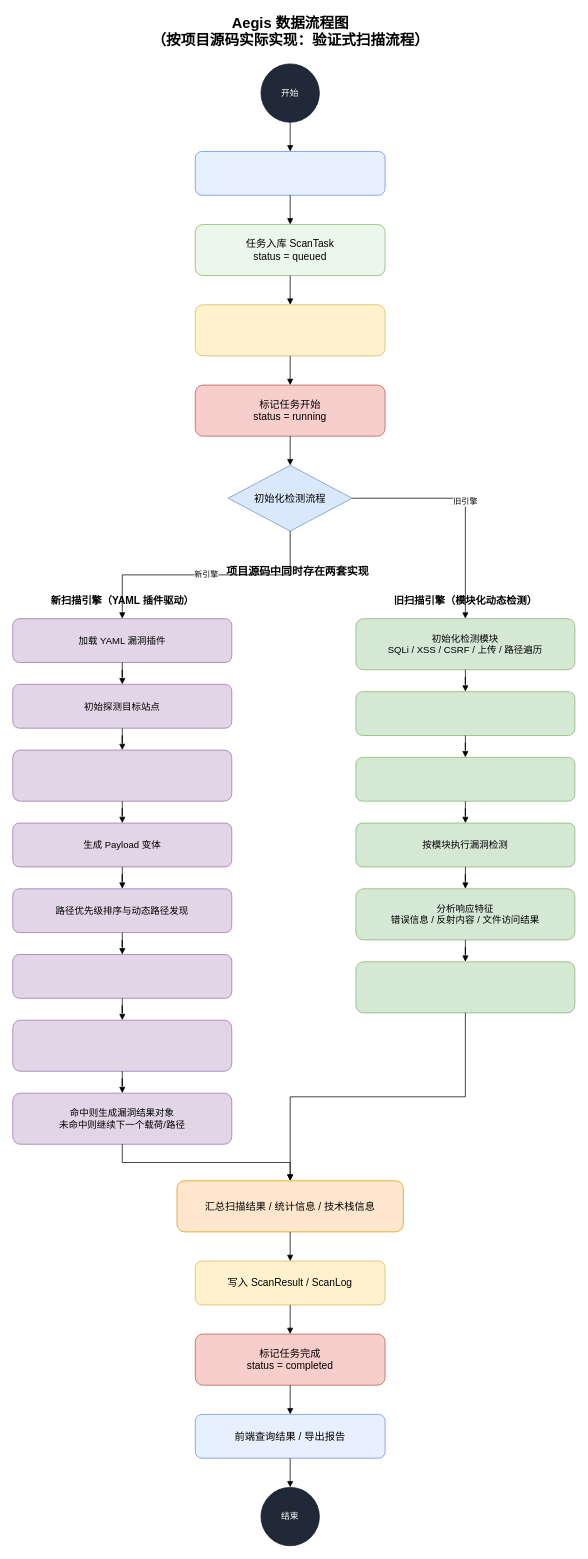
This 588x1559 diagram has some shape labels left out. Here are the shapes that lost their labels. From the top down, the centre of each, then its label:
the point at 290,173: 用户创建扫描任务
the point at 290,330: 执行器轮询待执行任务 ScanTaskExecutor
the point at 465,713: 爬取网站结构
the point at 122,775: 构建攻击上下文 技术栈 / 输入字段 / CSRF
the point at 465,779: 提取页面链接、表单、输入参数
the point at 122,976: 构造并发送 HTTP 请求
the point at 465,987: 发现漏洞则写入 Vulnerability 并更新 task.vulnerabilities_found
the point at 122,1045: 按 matchers 匹配响应 word / status / regex / size / binary
